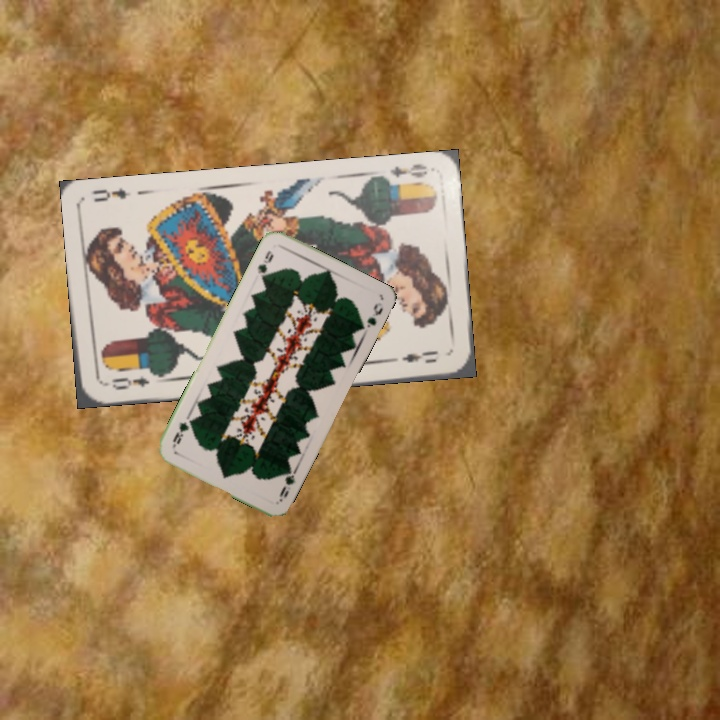EO: (107, 372, 153, 393), (386, 160, 430, 180)
G9: (275, 463, 299, 504), (253, 246, 276, 283)
